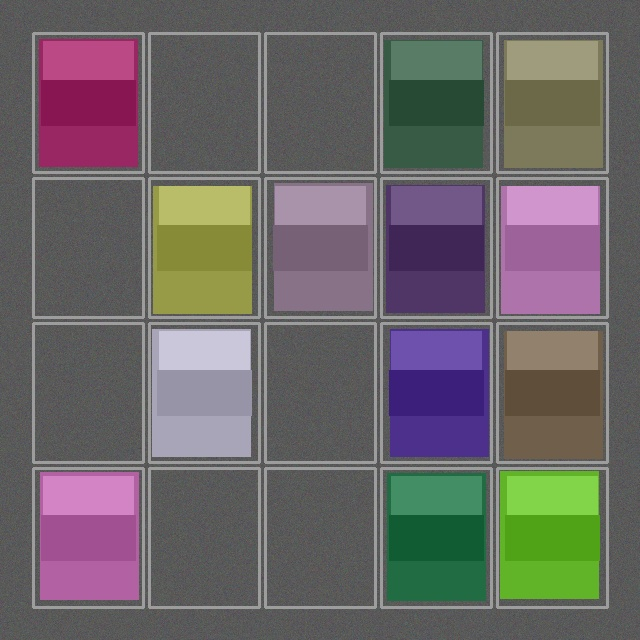space-empty: (151, 35, 257, 170), (267, 35, 373, 170), (35, 180, 141, 315), (35, 325, 141, 460), (267, 325, 373, 460), (151, 470, 257, 605), (267, 470, 373, 605)
space-occupied: (35, 35, 141, 170), (383, 35, 489, 170), (499, 35, 605, 170), (151, 180, 257, 315), (267, 180, 373, 315), (383, 180, 489, 315), (499, 180, 605, 315), (151, 325, 257, 460), (383, 325, 489, 460), (499, 325, 605, 460), (35, 470, 141, 605), (383, 470, 489, 605), (499, 470, 605, 605)
